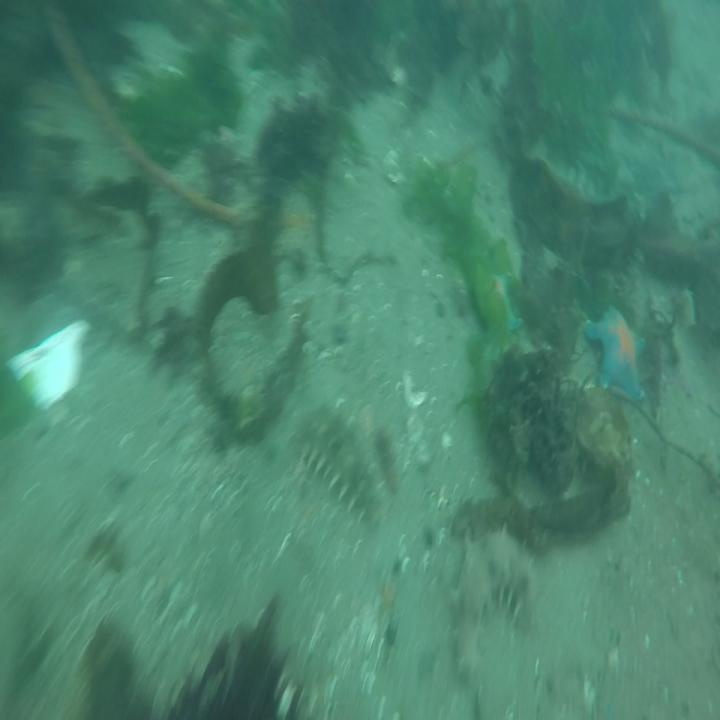holothurian: (453, 529, 536, 683), (292, 422, 380, 524)
starfish: (583, 301, 646, 403), (480, 266, 523, 331)
